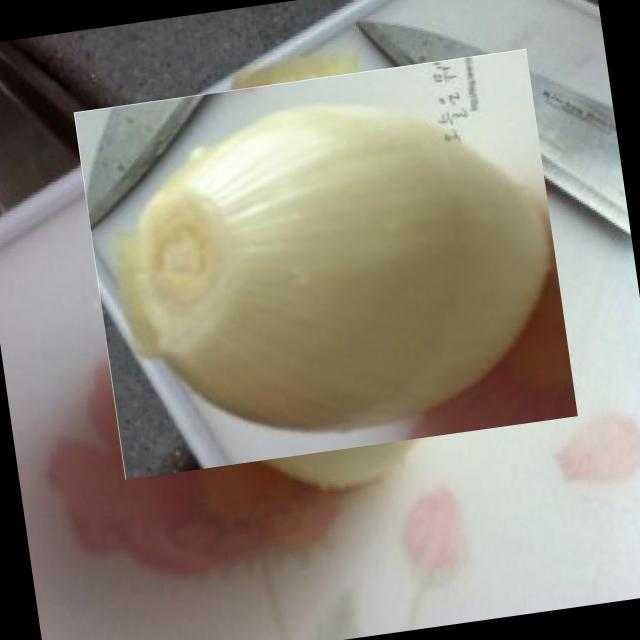Onion: (92, 30, 560, 498)
